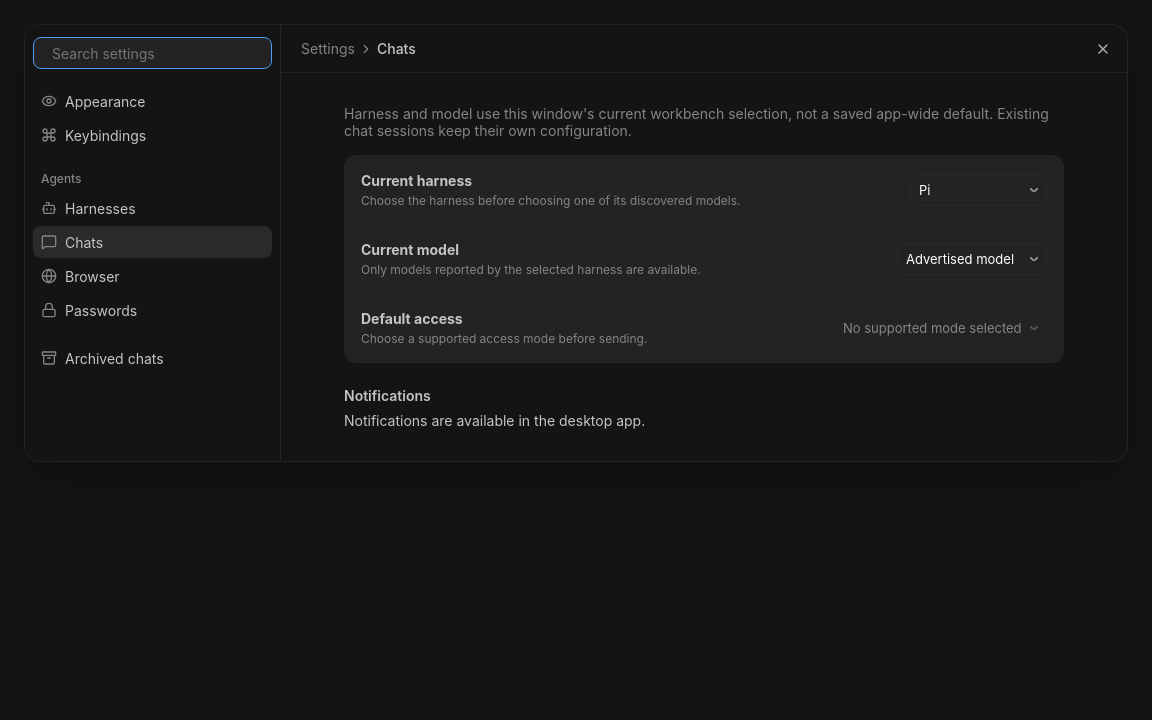
Test: shows a published update with the command that installs it
This screenshot has width=1152, height=720.
Click the button "Harnesses".
click(152, 208)  # box [33,192,272,224]
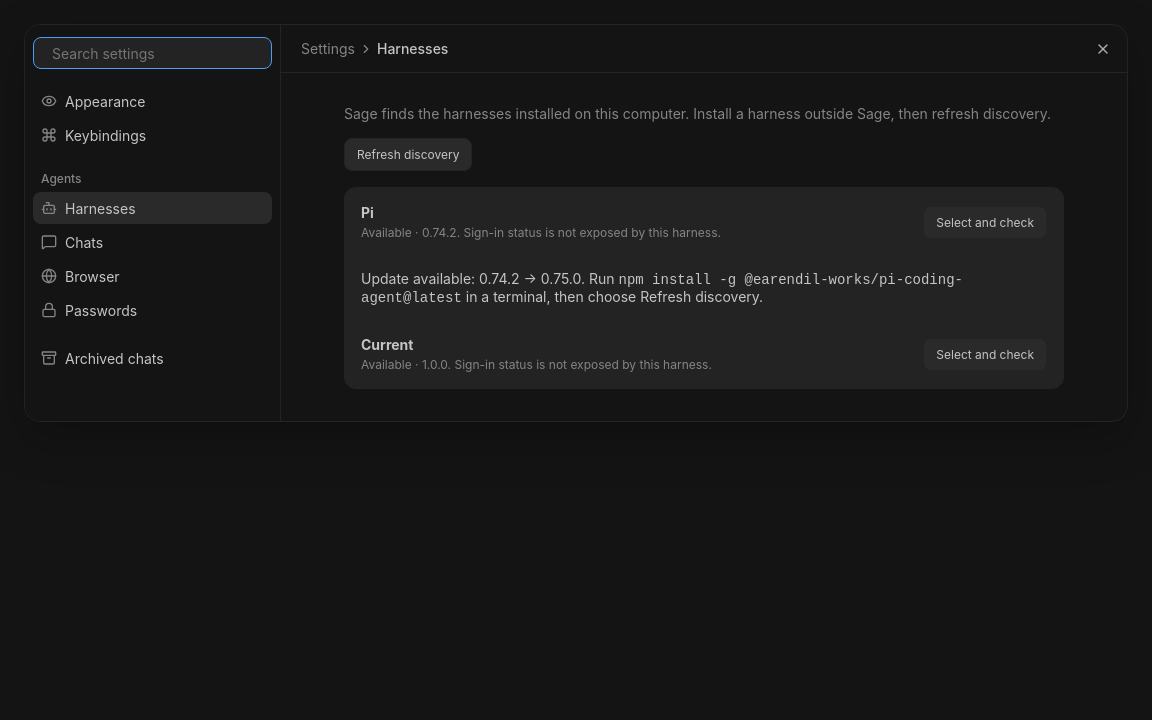
Expected: the text "Update available" is shown once, [361,270,1047,306]
Expected: the text "Update available" shows "Update available: 0.74.2 → 0.75.0. Run npm install -g @earendil-works/pi-coding-agent@latest in a terminal, then choose Refresh discovery.", [361,270,1047,306]
